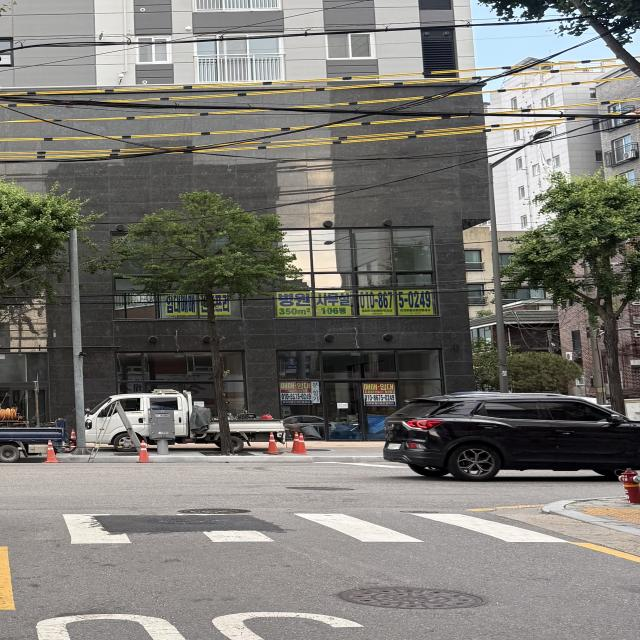car: (377, 369, 640, 514), (72, 383, 303, 469)
